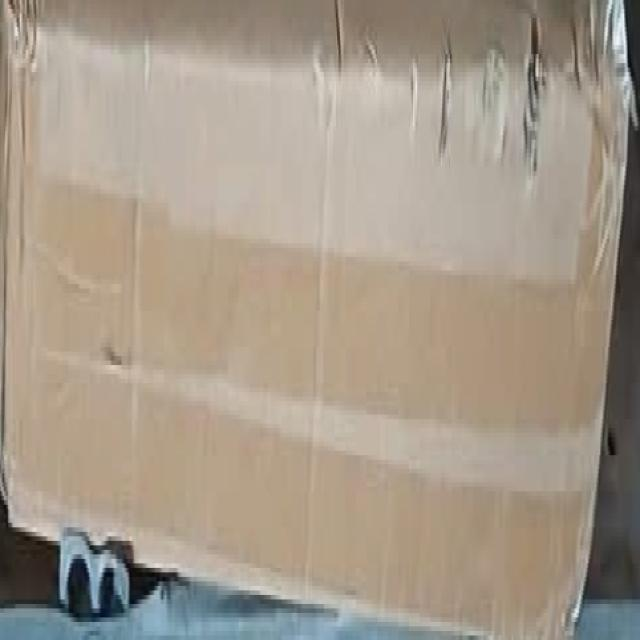carton_box: (0, 0, 639, 640)
package_damage: (1, 0, 44, 198), (517, 4, 554, 215), (432, 25, 466, 182)
